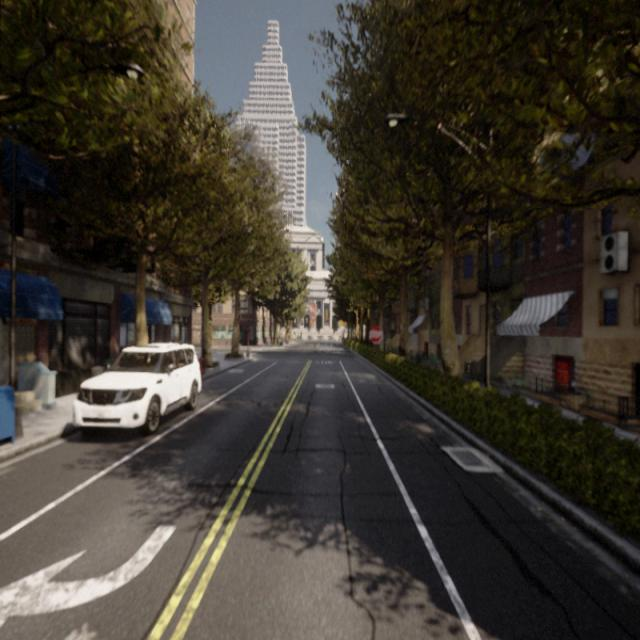stop sign: (366, 322, 384, 346)
